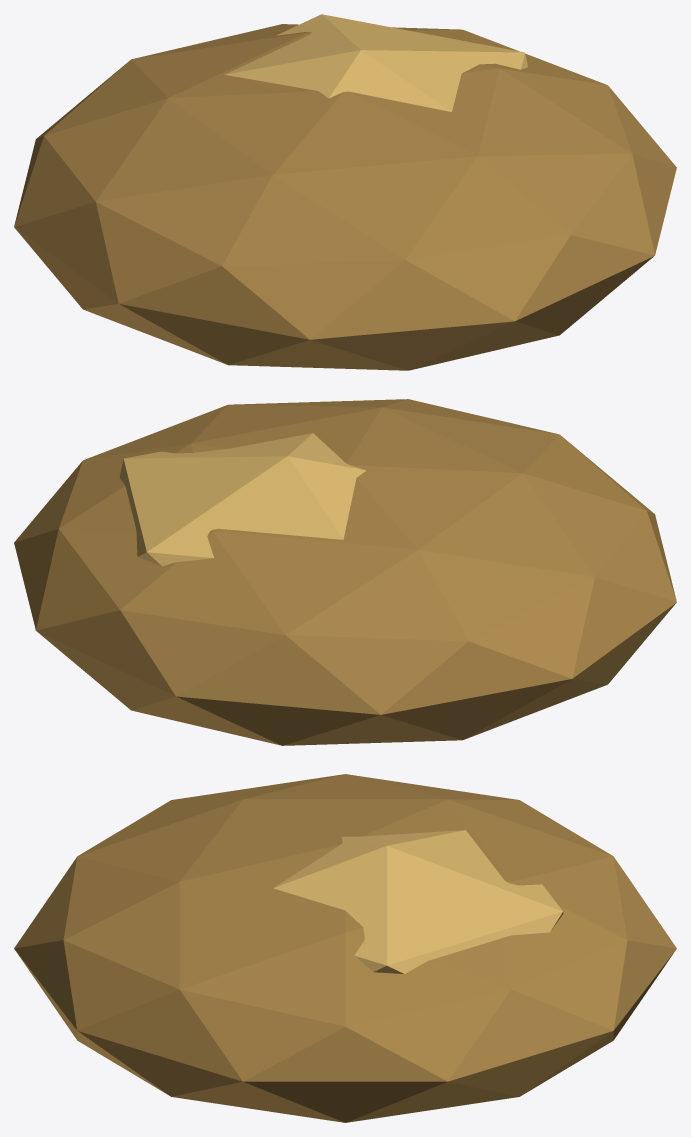
Rendered from chaff_pile.glb.
3 views of the same model, one above another, from view 1: azimuth 30°, elevation 25°; view 2: azimuth 150°, elevation 25°; view 3: azimuth 270°, elevation 25° (orthographic). The views are drawn at different scales.
Parts seen in each view (by area): view 1: chaff_pile; view 2: chaff_pile; view 3: chaff_pile.
Boxes of the visible parts, x1,y1,x2,y2 form: chaff_pile: (14, 14, 676, 370); chaff_pile: (14, 399, 676, 745); chaff_pile: (14, 774, 676, 1122).
Size of the model in its own units: 0.7608 by 0.3 by 0.8.
